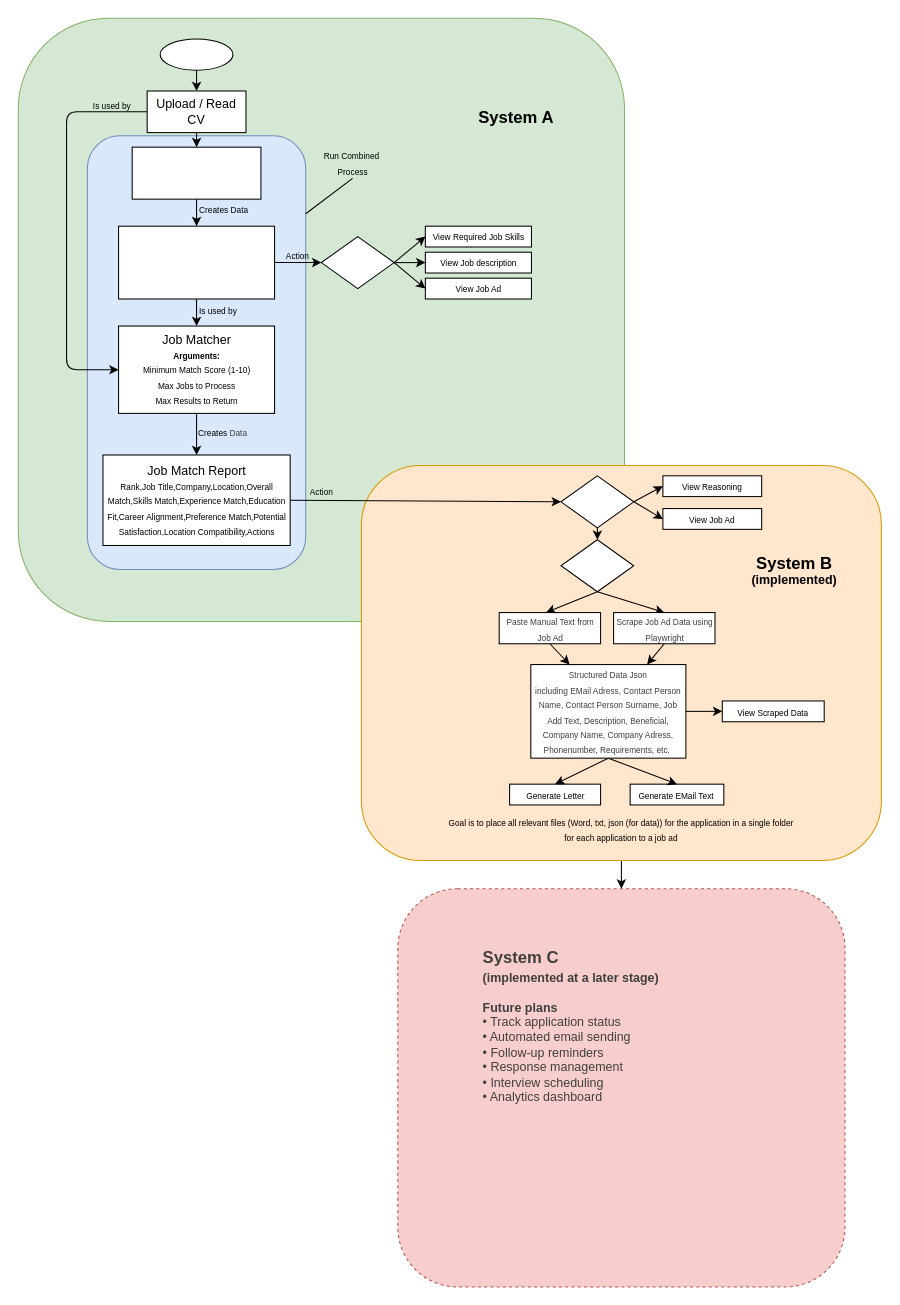
Image size: 900x1305. Some labels were removed from this diagram. Each missing label, with the centre of its shape:
Actions: point 597,501
Available Job Data Posting Date,Job Title,Company Name,Location: point 196,262
Details: point 357,262
Get Data: point 597,565
Scrape Job Data Argument: Maximum Pages to Scrape: point 196,172
Start: point 196,54
